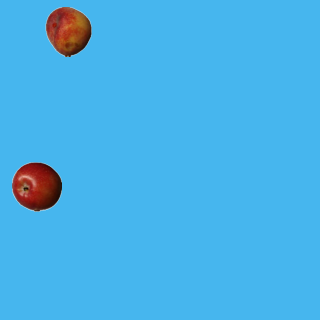Apple Braeburn: (11, 161, 61, 211)
Peach: (43, 6, 93, 56)
